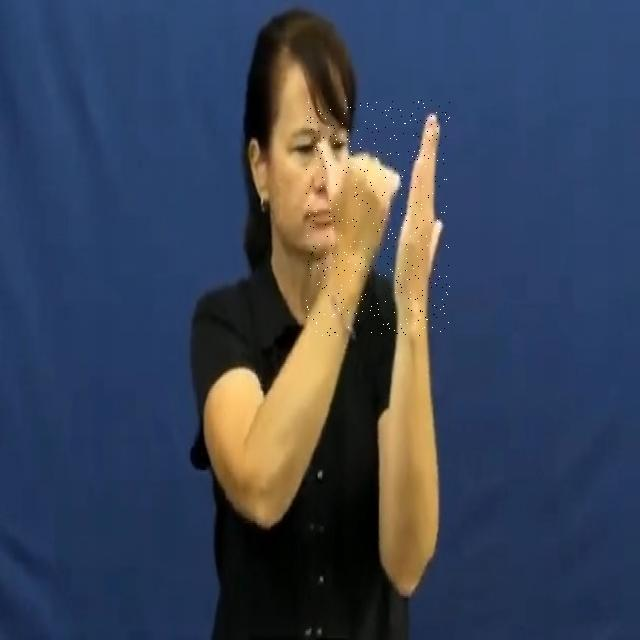menu: (306, 100, 450, 336)
